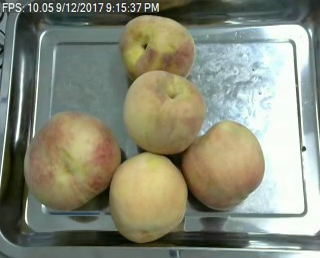Peach: (23, 110, 121, 211), (184, 119, 265, 209), (109, 152, 187, 245), (124, 69, 205, 154), (120, 14, 195, 82)
